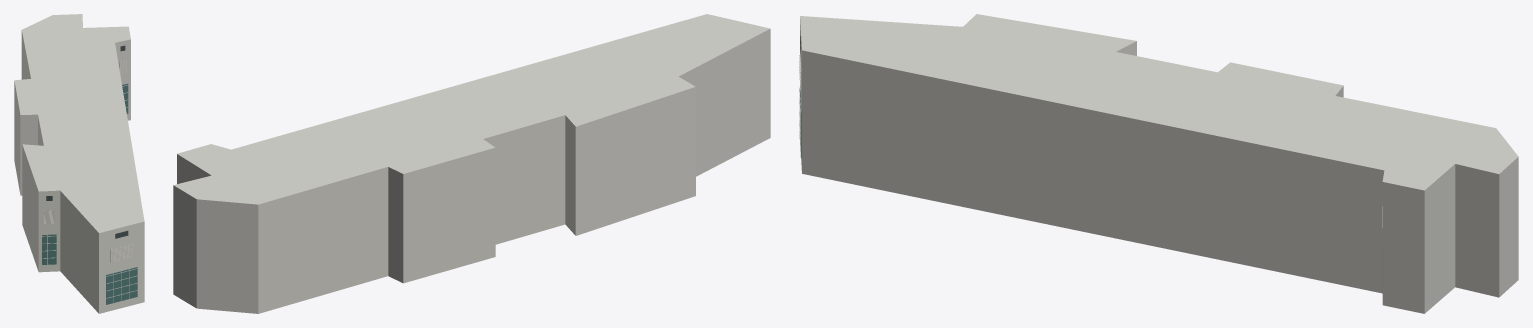
3 renders of one model, left to right at view 1: azimuth 30°, elevation 25°; view 2: azimuth 150°, elevation 25°; view 3: azimuth 270°, elevation 25°, orthographic. The views are drawn at different scales.
Parts seen in each view (by area): view 1: 134101085_stone, 134101085_opaque glazing, 134101085_accent, 134101085_frames; view 2: 134101085_stone; view 3: 134101085_stone.
Boxes of the visible parts, x1,y1,x2,y2 form: 134101085_stone: [14, 14, 144, 313]; 134101085_opaque glazing: [42, 83, 137, 304]; 134101085_accent: [44, 59, 133, 262]; 134101085_frames: [46, 45, 128, 238]; 134101085_stone: [173, 14, 770, 313]; 134101085_stone: [799, 14, 1518, 313].
Size of the model in its own units: 61.35 by 20 by 106.
